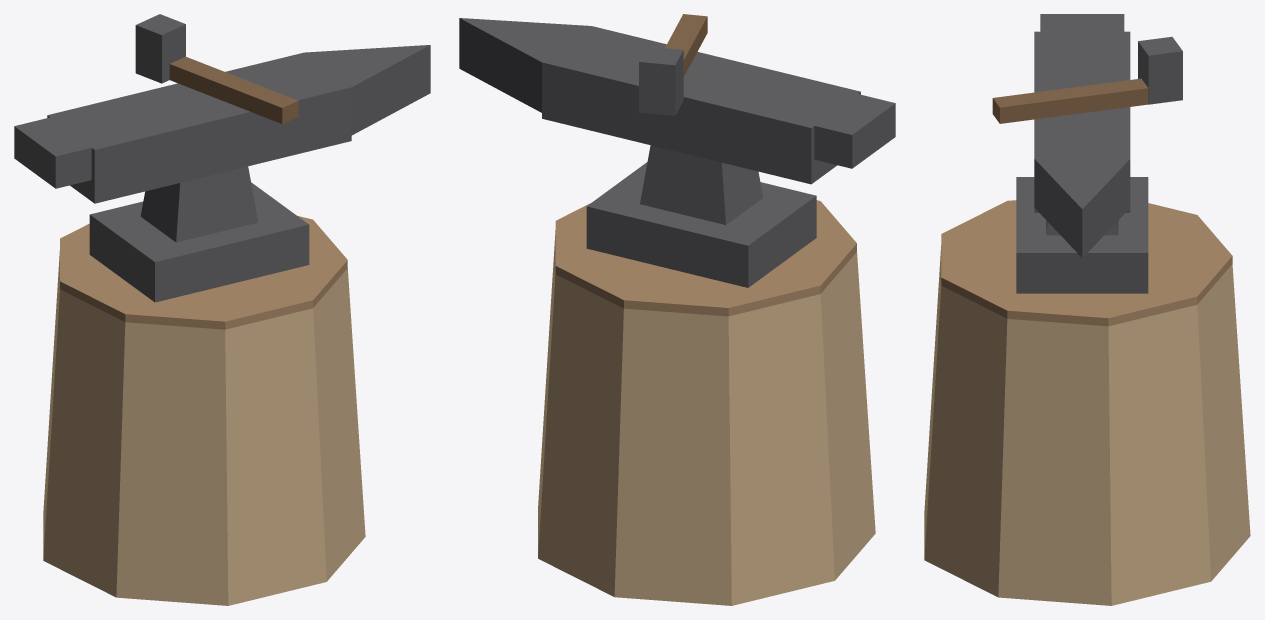
File: SM_Anvil.glb
3 views of the same model, side by side, from view 1: azimuth 30°, elevation 25°; view 2: azimuth 150°, elevation 25°; view 3: azimuth 270°, elevation 25° (orthographic). The views are drawn at different scales.
Parts seen in each view (by area): view 1: SM_Anvil; view 2: SM_Anvil; view 3: SM_Anvil.
Boxes of the visible parts, left/top/right/bottom form: SM_Anvil: left=14, top=14, right=430, bottom=605; SM_Anvil: left=459, top=14, right=895, bottom=605; SM_Anvil: left=924, top=14, right=1250, bottom=605.
Bounding box in the file's own units: 0.77 × 0.9 × 0.5431.
